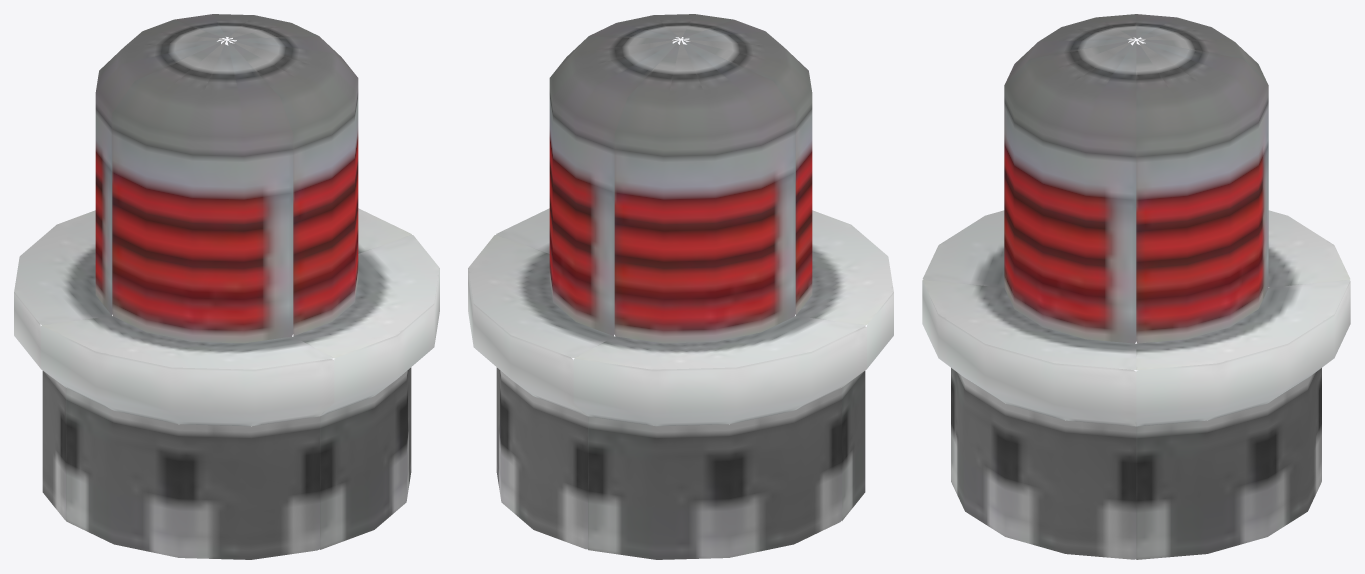
Rendered from Part - Detail 08-h8r4KWqS.glb.
3 views of the same model, side by side, from view 1: azimuth 30°, elevation 25°; view 2: azimuth 150°, elevation 25°; view 3: azimuth 270°, elevation 25° (orthographic).
Parts seen in each view (by area): view 1: Detail_08; view 2: Detail_08; view 3: Detail_08.
Boxes of the visible parts, x1,y1,x2,y2 form: Detail_08: [14, 14, 439, 559]; Detail_08: [468, 14, 893, 559]; Detail_08: [922, 14, 1350, 559].
Bounding box in the file's own units: 0.3464 × 0.3942 × 0.3464.
Materials: 1 (1 with a texture image).
